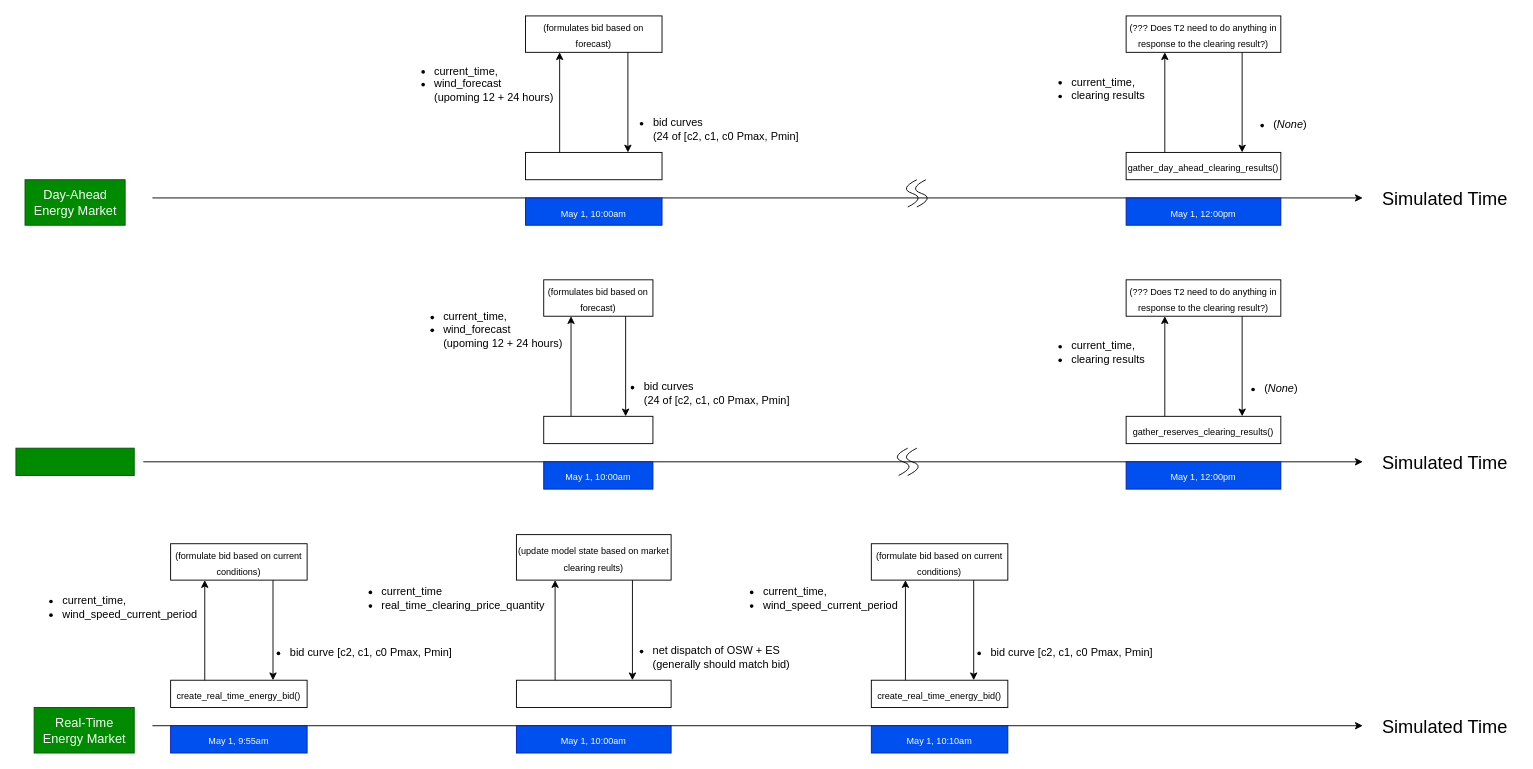
Some shapes in this 1533 by 769 pixel diagram are drawn without their labels. Each missing label, with the box of its shape:
create_day_ahead_energy_bid(): (525, 152, 662, 180)
create_dispatch(): (516, 679, 671, 708)
create_reserves_bid(): (543, 415, 653, 444)
Reserves Market: (15, 447, 134, 475)
